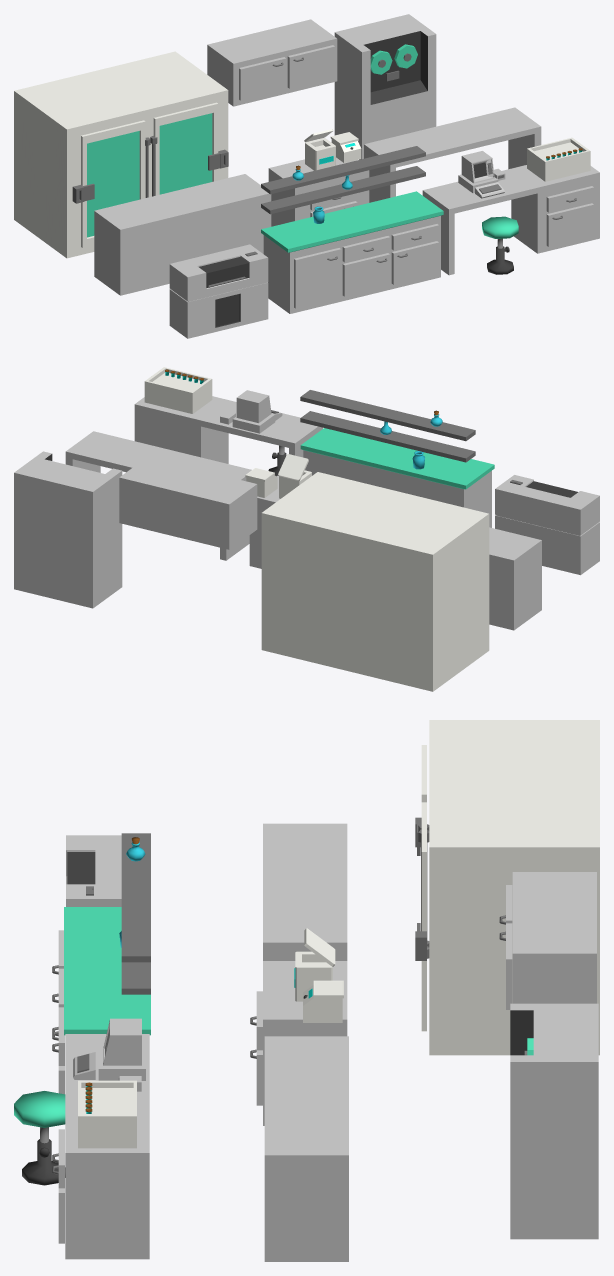
The model's file is Potions.glb.
The picture shows the model from 3 angles, top to bottom: view 1: azimuth 30°, elevation 25°; view 2: azimuth 150°, elevation 25°; view 3: azimuth 270°, elevation 25°; orthographic projection. The views are drawn at different scales.
Visible parts, largest first — view 1: frezzer, balcony_center, balcony_base, record, balcony_seat, air_balcony, balcony_printer, balcony_table, balcony_bidet, box_samples, computer, chair (+2 smaller); view 2: frezzer, record, balcony_center, air_balcony, balcony_printer, balcony_seat, balcony_base, balcony_table, box_samples, computer, mix_samples_2, balcony_bidet (+1 smaller); view 3: frezzer, record, balcony_table, balcony_center, balcony_seat, air_balcony, balcony_base, balcony_bidet, balcony_printer, box_samples, computer, chair (+2 smaller).
Boxes of the visible parts, bbox=[...] form: frezzer: bbox=[14, 51, 228, 258]; balcony_center: bbox=[261, 146, 443, 313]; balcony_base: bbox=[94, 174, 271, 295]; record: bbox=[334, 14, 436, 159]; balcony_seat: bbox=[422, 165, 599, 275]; air_balcony: bbox=[207, 19, 337, 106]; balcony_printer: bbox=[169, 244, 268, 338]; balcony_table: bbox=[364, 107, 541, 202]; balcony_bidet: bbox=[268, 157, 369, 226]; box_samples: bbox=[527, 137, 590, 181]; computer: bbox=[458, 151, 505, 198]; chair: bbox=[482, 216, 518, 274]; frezzer: bbox=[261, 472, 489, 691]; record: bbox=[14, 451, 122, 608]; balcony_center: bbox=[300, 390, 494, 527]; air_balcony: bbox=[119, 457, 257, 549]; balcony_printer: bbox=[495, 475, 599, 575]; balcony_seat: bbox=[134, 396, 322, 463]; balcony_base: bbox=[489, 527, 541, 630]; balcony_table: bbox=[65, 431, 251, 560]; box_samples: bbox=[144, 367, 212, 413]; computer: bbox=[220, 390, 282, 433]; mix_samples_2: bbox=[278, 454, 311, 498]; balcony_bidet: bbox=[249, 475, 279, 568]; frezzer: bbox=[415, 720, 599, 1055]; record: bbox=[510, 1003, 598, 1239]; balcony_table: bbox=[264, 1036, 348, 1261]; balcony_center: bbox=[52, 833, 150, 1094]; balcony_seat: bbox=[52, 1034, 149, 1259]; air_balcony: bbox=[499, 872, 596, 1009]; balcony_base: bbox=[263, 823, 347, 960]; balcony_bidet: bbox=[250, 961, 347, 1125]; balcony_printer: bbox=[66, 835, 121, 906]; box_samples: bbox=[78, 1080, 136, 1148]; computer: bbox=[73, 1018, 145, 1091]; chair: bbox=[14, 1091, 65, 1185].
Size of the model in its own units: 18.68 by 5.44 by 13.87.
